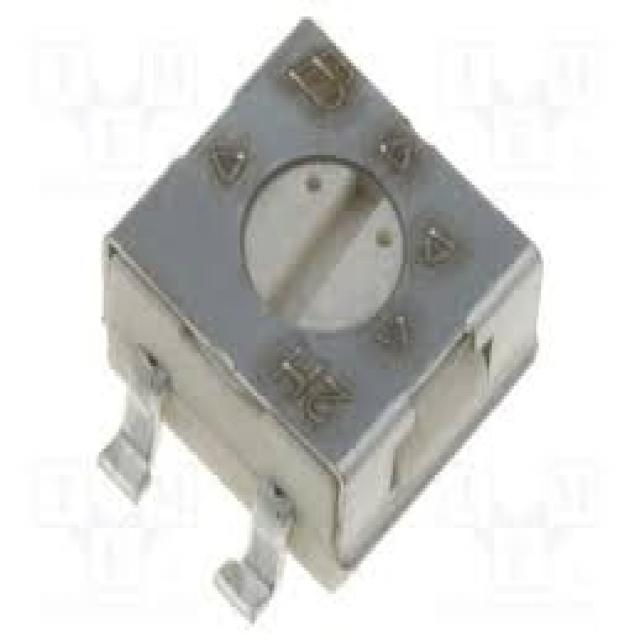potentiometer POT1: (99, 17, 563, 565)
